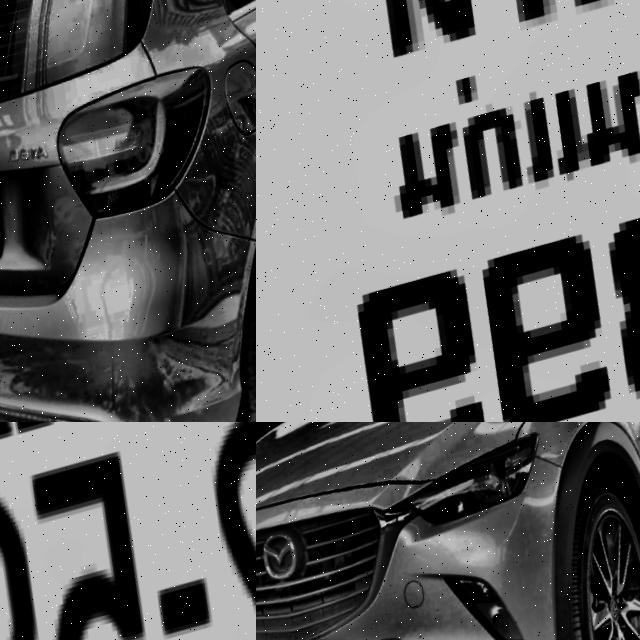license-plate: (256, 0, 640, 422), (0, 422, 256, 640), (0, 159, 26, 278)
